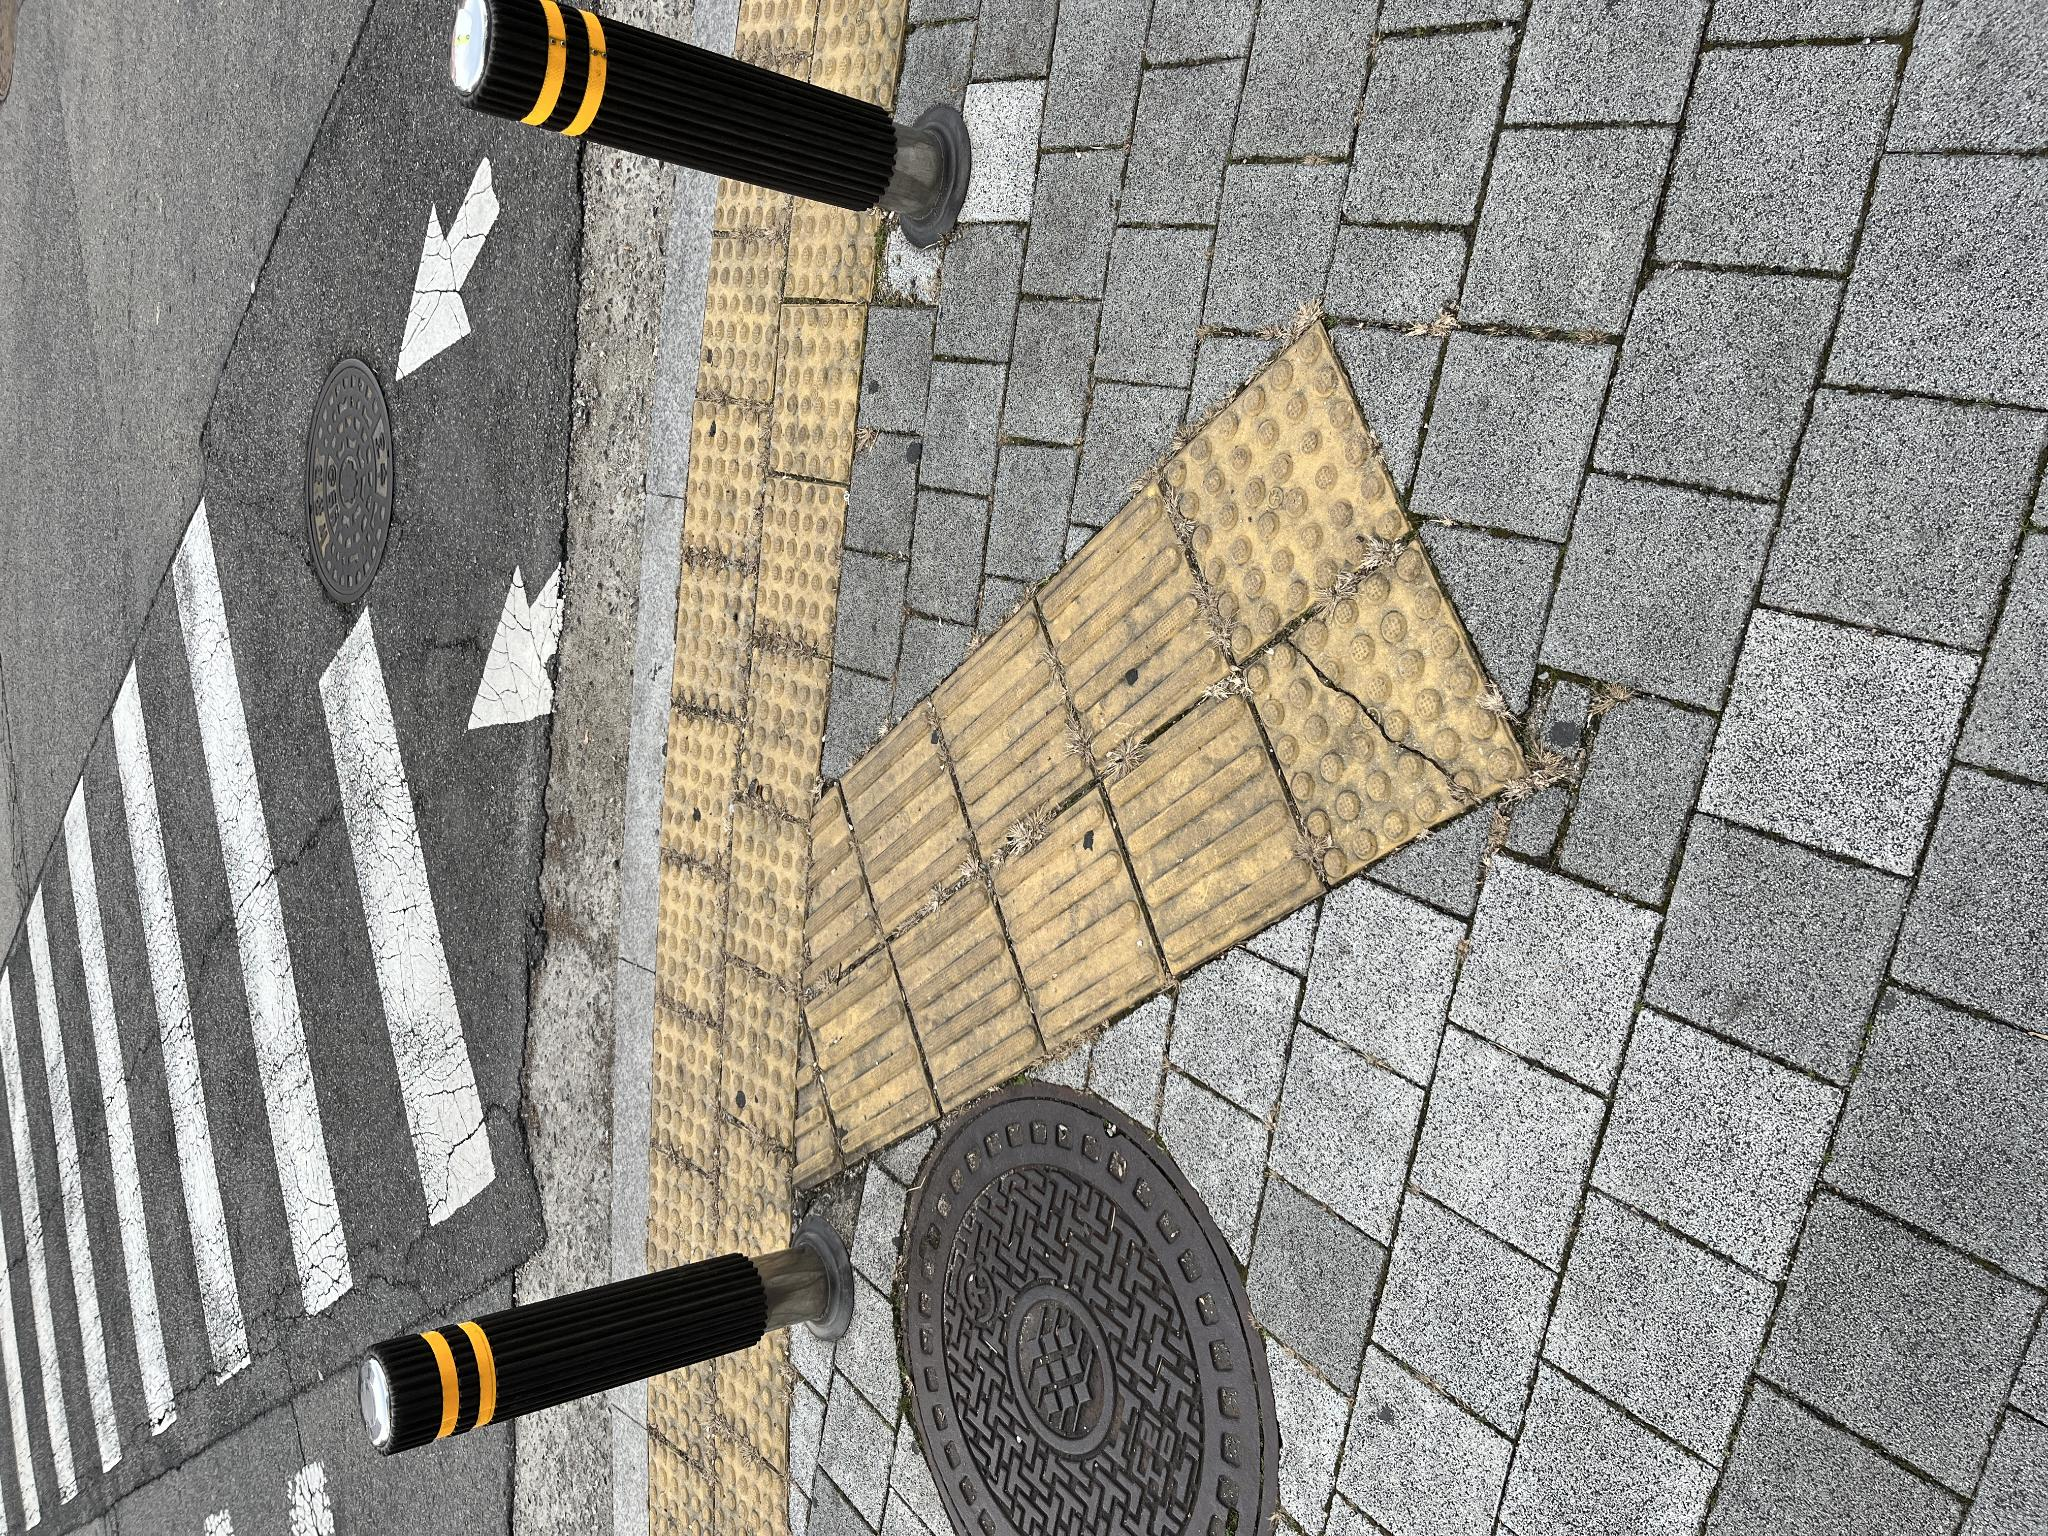Stop block broken: (653, 1241, 997, 1523)
Stop block normal: (876, 1165, 1213, 1407)
Straight block normal: (563, 1107, 853, 1318), (768, 1037, 1053, 1226), (487, 989, 748, 1163), (676, 931, 934, 1091), (424, 891, 658, 1039), (603, 839, 834, 973)
